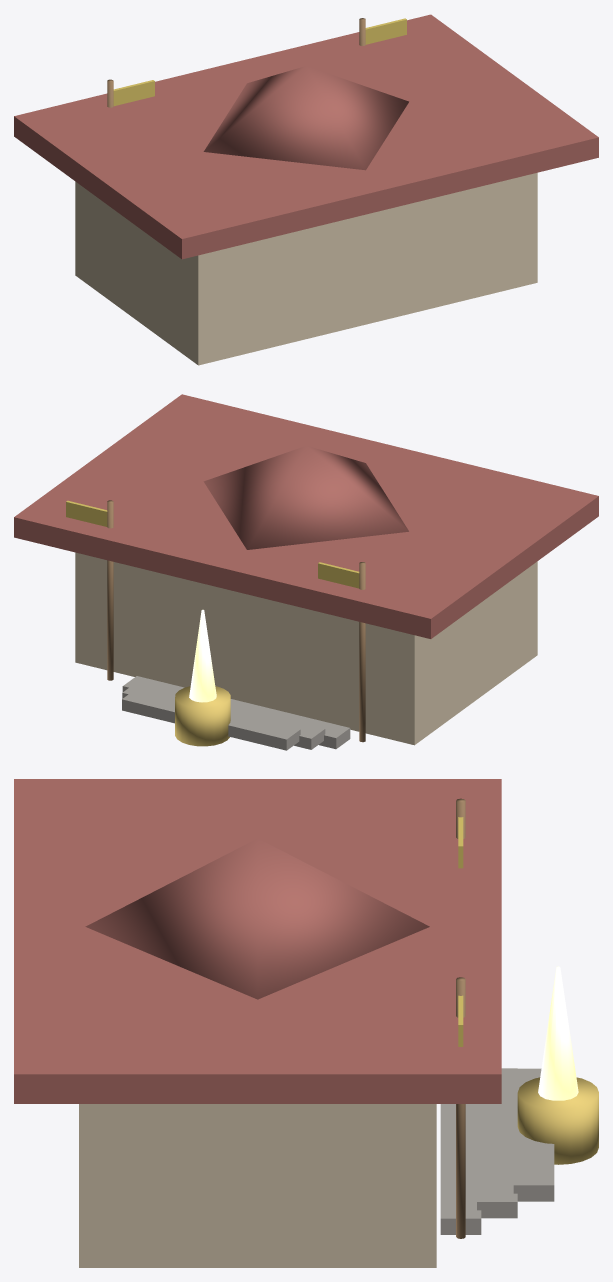
Rendered from m3d_temple.glb.
The picture shows the model from 3 angles, top to bottom: view 1: azimuth 30°, elevation 25°; view 2: azimuth 150°, elevation 25°; view 3: azimuth 270°, elevation 25°; orthographic projection. The views are drawn at different scales.
Visible parts, largest first — view 1: hall_roof, hall, hall_top, flag_0, flag_1; view 2: hall_roof, hall, hall_top, step_2, burner, step_0, smoke, step_1, flagpole_1, flagpole_0, flag_1, flag_0; view 3: hall_roof, hall, hall_top, burner, step_1, step_0, step_2, smoke, flagpole_1.
Part boxes in pixels (left/top/right/bottom): hall_roof: left=14, top=14, right=598, bottom=259; hall: left=75, top=172, right=537, bottom=365; hall_top: left=203, top=66, right=408, bottom=170; flag_0: left=113, top=80, right=154, bottom=106; flag_1: left=365, top=18, right=406, bottom=44; hall_roof: left=14, top=394, right=598, bottom=638; hall: left=75, top=552, right=537, bottom=745; hall_top: left=203, top=445, right=408, bottom=549; step_2: left=122, top=689, right=300, bottom=750; burner: left=175, top=686, right=230, bottom=746; step_0: left=122, top=676, right=350, bottom=749; smoke: left=189, top=609, right=216, bottom=702; step_1: left=122, top=682, right=325, bottom=749; flagpole_1: left=107, top=500, right=113, bottom=680; flagpole_0: left=359, top=562, right=365, bottom=742; flag_1: left=66, top=500, right=107, bottom=526; flag_0: left=318, top=562, right=359, bottom=588; hall_roof: left=14, top=779, right=501, bottom=1103; hall: left=79, top=1104, right=436, bottom=1267; hall_top: left=85, top=838, right=429, bottom=999; burner: left=517, top=1077, right=598, bottom=1164; step_1: left=477, top=1068, right=517, bottom=1218; step_0: left=440, top=1104, right=481, bottom=1234; step_2: left=513, top=1068, right=554, bottom=1201; smoke: left=538, top=966, right=578, bottom=1100; flagpole_1: left=456, top=977, right=465, bottom=1238.
Size of what is drawn, in the model's own units: 17.2 by 8.72 by 14.4.
